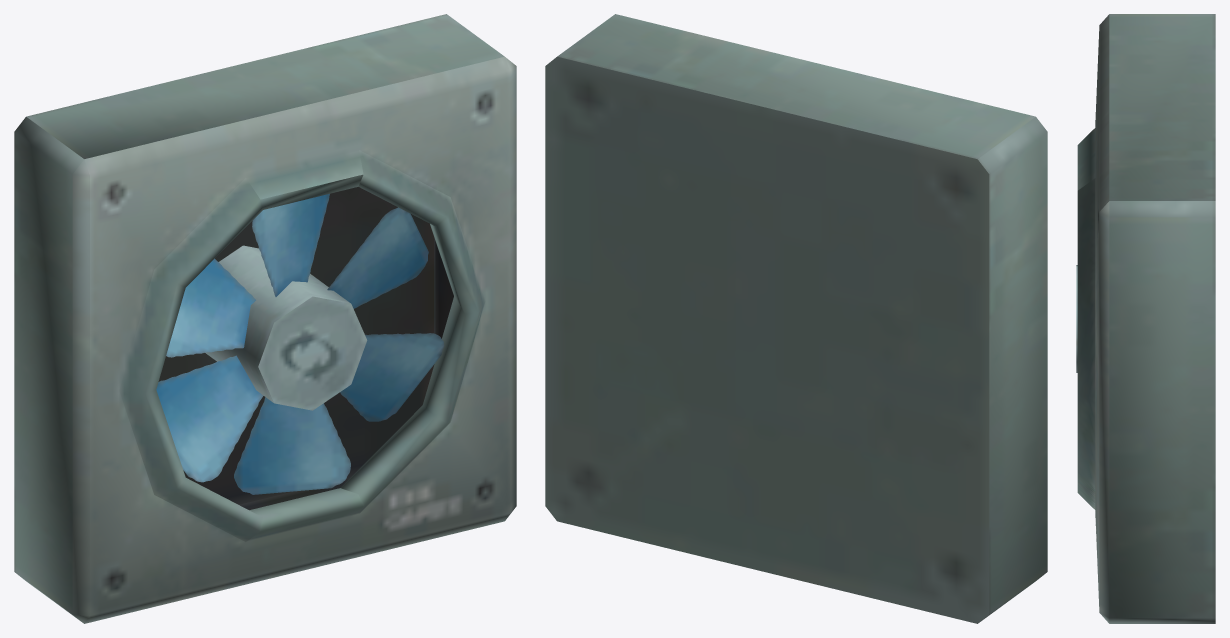
File: ventilator.obj
3 views of the same model, side by side, from view 1: azimuth 30°, elevation 25°; view 2: azimuth 150°, elevation 25°; view 3: azimuth 270°, elevation 25° (orthographic). The views are drawn at different scales.
Visible parts, largest first — view 1: ventilator; view 2: ventilator; view 3: ventilator.
Boxes of the visible parts, x1,y1,x2,y2 form: ventilator: [14, 14, 516, 623]; ventilator: [545, 14, 1047, 623]; ventilator: [1076, 14, 1215, 623].
Size of the model in its own units: 1 by 1 by 0.2979.
Materials: 1 (1 with a texture image).
